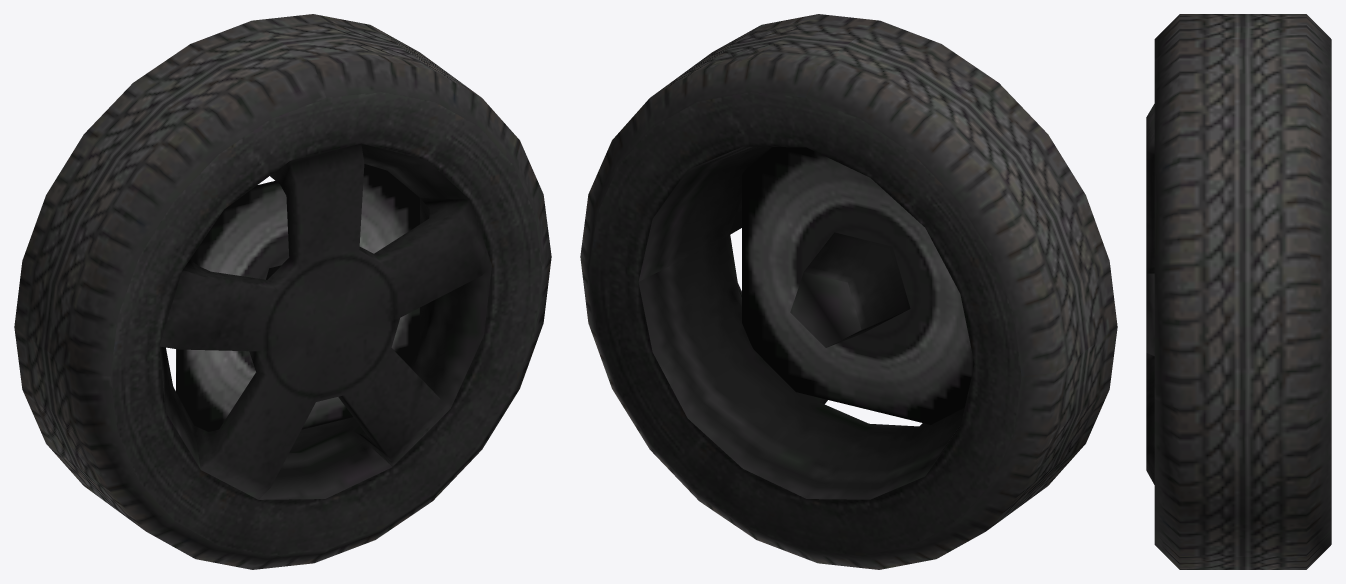
File: V_A_2DrCoupe_Wheels_9_SkeletalMesh3_PartMesh.psk.glb
3 renders of one model, left to right at view 1: azimuth 30°, elevation 25°; view 2: azimuth 150°, elevation 25°; view 3: azimuth 270°, elevation 25°, orthographic.
Size of the model in its own units: 68.81 by 68.81 by 22.85.
Materials: 1 (1 with a texture image).
